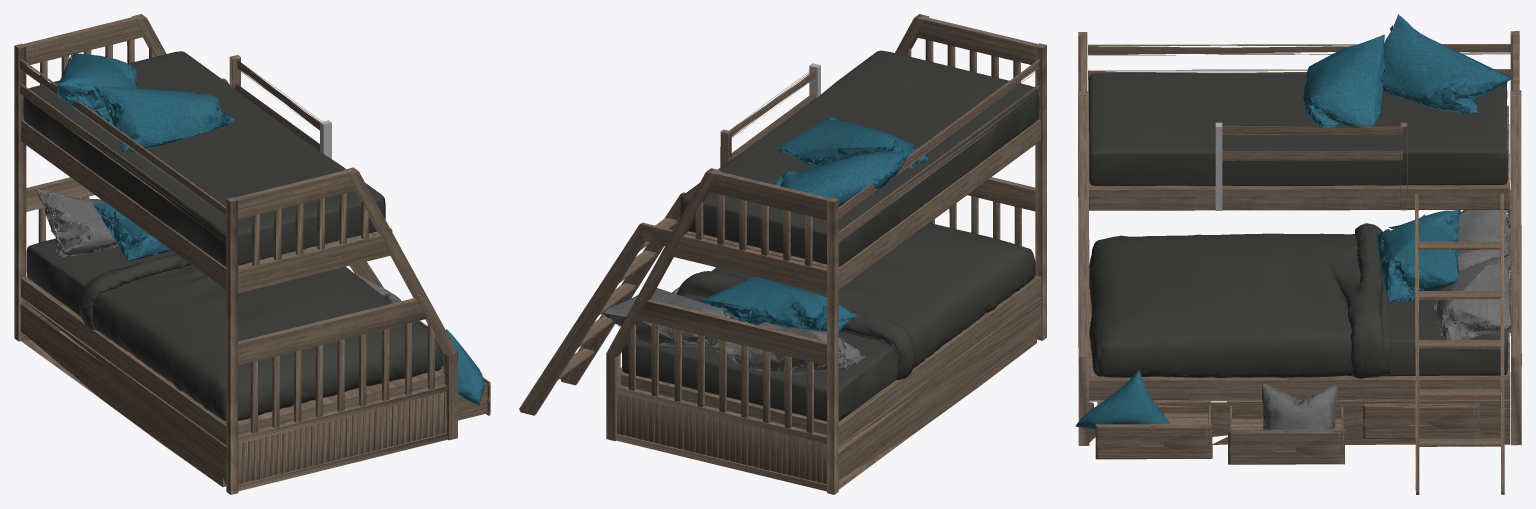
Rendered from bed-22.glb.
The picture shows the model from 3 angles, left to right: view 1: azimuth 30°, elevation 25°; view 2: azimuth 150°, elevation 25°; view 3: azimuth 270°, elevation 25°; orthographic projection. The views are drawn at different scales.
Visible parts, largest first — view 1: Mesh29_Baby_Blue_Ceramic1_0, Mesh27_Baby_Blue_Ceramic1_0, Mesh17_Bage_Ceramic10_0, Mesh83_Bage_Ceramic10_0, Mesh81_Bage_Ceramic10_0, Mesh89_Blue_Purple_Ceramic_0, Mesh35_Bage_Ceramic10_0, Mesh34_Bage_Ceramic10_0, Mesh15_Bage_Ceramic10_0, Mesh7_Bage_Ceramic10_0, Mesh86_Bage_Ceramic10_0, Mesh85_Bage_Ceramic10_0 (+21 smaller); view 2: Mesh29_Baby_Blue_Ceramic1_0, Mesh27_Baby_Blue_Ceramic1_0, Mesh48_Bage_Ceramic10_0, Mesh44_Bage_Ceramic10_0, Mesh81_Bage_Ceramic10_0, Mesh25_Bage_Ceramic10_0, Mesh42_Bage_Ceramic10_0, Mesh9_Blue_Purple_Ceramic_0, Mesh47_Bage_Ceramic10_0, Mesh15_Bage_Ceramic10_0, Mesh7_Bage_Ceramic10_0, Mesh32_Bage_Ceramic10_0 (+23 smaller); view 3: Mesh29_Baby_Blue_Ceramic1_0, Mesh27_Baby_Blue_Ceramic1_0, Mesh13_Bage_Ceramic10_0, Mesh90_Blue_Purple_Ceramic_0, Mesh5_Bage_Ceramic10_0, Mesh89_Blue_Purple_Ceramic_0, Mesh9_Blue_Purple_Ceramic_0, Mesh49_Bage_Ceramic10_0, Mesh21_Bage_Ceramic10_0, Mesh70_Bage_Ceramic10_0, Mesh67_Bright_Green_Ceramic_0, Mesh32_Bage_Ceramic10_0 (+21 smaller).
Part boxes in pixels (left/top/right/bottom): Mesh29_Baby_Blue_Ceramic1_0: left=26, top=239, right=442, bottom=420; Mesh27_Baby_Blue_Ceramic1_0: left=23, top=51, right=385, bottom=266; Mesh17_Bage_Ceramic10_0: left=235, top=169, right=390, bottom=293; Mesh83_Bage_Ceramic10_0: left=238, top=392, right=448, bottom=484; Mesh81_Bage_Ceramic10_0: left=20, top=301, right=226, bottom=486; Mesh89_Blue_Purple_Ceramic_0: left=94, top=86, right=234, bottom=152; Mesh35_Bage_Ceramic10_0: left=250, top=322, right=434, bottom=433; Mesh34_Bage_Ceramic10_0: left=238, top=298, right=426, bottom=365; Mesh15_Bage_Ceramic10_0: left=21, top=122, right=226, bottom=289; Mesh7_Bage_Ceramic10_0: left=21, top=278, right=226, bottom=444; Mesh86_Bage_Ceramic10_0: left=343, top=167, right=457, bottom=440; Mesh85_Bage_Ceramic10_0: left=226, top=197, right=238, bottom=494; Mesh29_Baby_Blue_Ceramic1_0: left=622, top=223, right=1035, bottom=421; Mesh27_Baby_Blue_Ceramic1_0: left=680, top=50, right=1039, bottom=266; Mesh48_Bage_Ceramic10_0: left=673, top=170, right=829, bottom=293; Mesh44_Bage_Ceramic10_0: left=617, top=393, right=826, bottom=484; Mesh81_Bage_Ceramic10_0: left=838, top=297, right=1041, bottom=479; Mesh25_Bage_Ceramic10_0: left=519, top=192, right=685, bottom=415; Mesh42_Bage_Ceramic10_0: left=628, top=323, right=813, bottom=433; Mesh9_Blue_Purple_Ceramic_0: left=696, top=276, right=857, bottom=331; Mesh47_Bage_Ceramic10_0: left=637, top=299, right=826, bottom=365; Mesh15_Bage_Ceramic10_0: left=839, top=121, right=1040, bottom=289; Mesh7_Bage_Ceramic10_0: left=838, top=277, right=1041, bottom=445; Mesh32_Bage_Ceramic10_0: left=606, top=168, right=720, bottom=441; Mesh29_Baby_Blue_Ceramic1_0: left=1089, top=223, right=1507, bottom=378; Mesh27_Baby_Blue_Ceramic1_0: left=1088, top=73, right=1507, bottom=185; Mesh13_Bage_Ceramic10_0: left=1089, top=189, right=1508, bottom=210; Mesh90_Blue_Purple_Ceramic_0: left=1383, top=14, right=1511, bottom=114; Mesh5_Bage_Ceramic10_0: left=1089, top=380, right=1509, bottom=399; Mesh89_Blue_Purple_Ceramic_0: left=1303, top=34, right=1384, bottom=127; Mesh9_Blue_Purple_Ceramic_0: left=1376, top=210, right=1460, bottom=302; Mesh49_Bage_Ceramic10_0: left=1228, top=401, right=1344, bottom=464; Mesh21_Bage_Ceramic10_0: left=1088, top=46, right=1506, bottom=160; Mesh70_Bage_Ceramic10_0: left=1095, top=401, right=1212, bottom=459; Mesh67_Bright_Green_Ceramic_0: left=1433, top=254, right=1511, bottom=339; Mesh32_Bage_Ceramic10_0: left=1510, top=90, right=1521, bottom=445.
Bounding box in the file's own units: 13.29 × 11.33 × 14.73.
6 materials, 4 textured.
